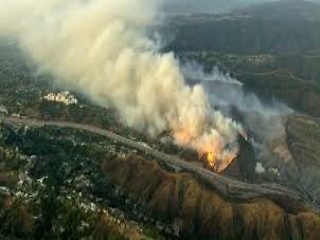fire: (203, 151, 221, 167)
smoke: (18, 7, 259, 149)
